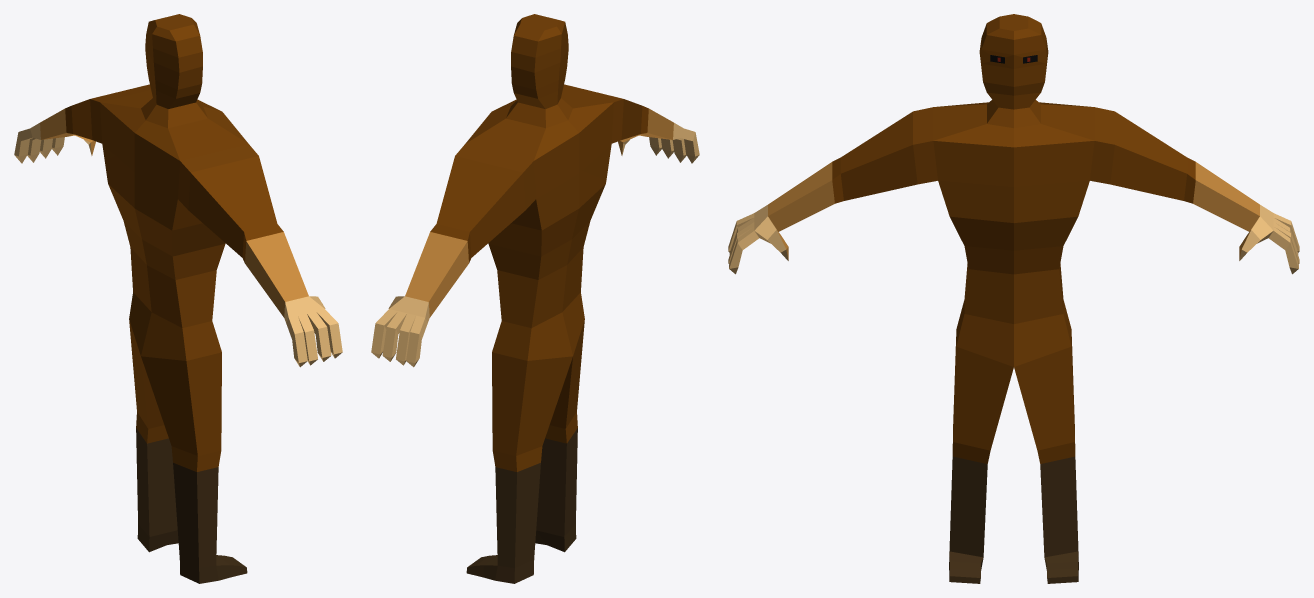
The model's file is Monster.fbx.
3 views of the same model, side by side, from view 1: azimuth 30°, elevation 25°; view 2: azimuth 150°, elevation 25°; view 3: azimuth 270°, elevation 25° (orthographic).
Parts seen in each view (by area): view 1: Cube; view 2: Cube; view 3: Cube.
Part boxes in pixels (x1,y1,x2,y2): Cube: (14,14,342,583); Cube: (371,14,699,583); Cube: (728,14,1299,583).
Size of the model in its own units: 1.77 by 10.4 by 9.96.
